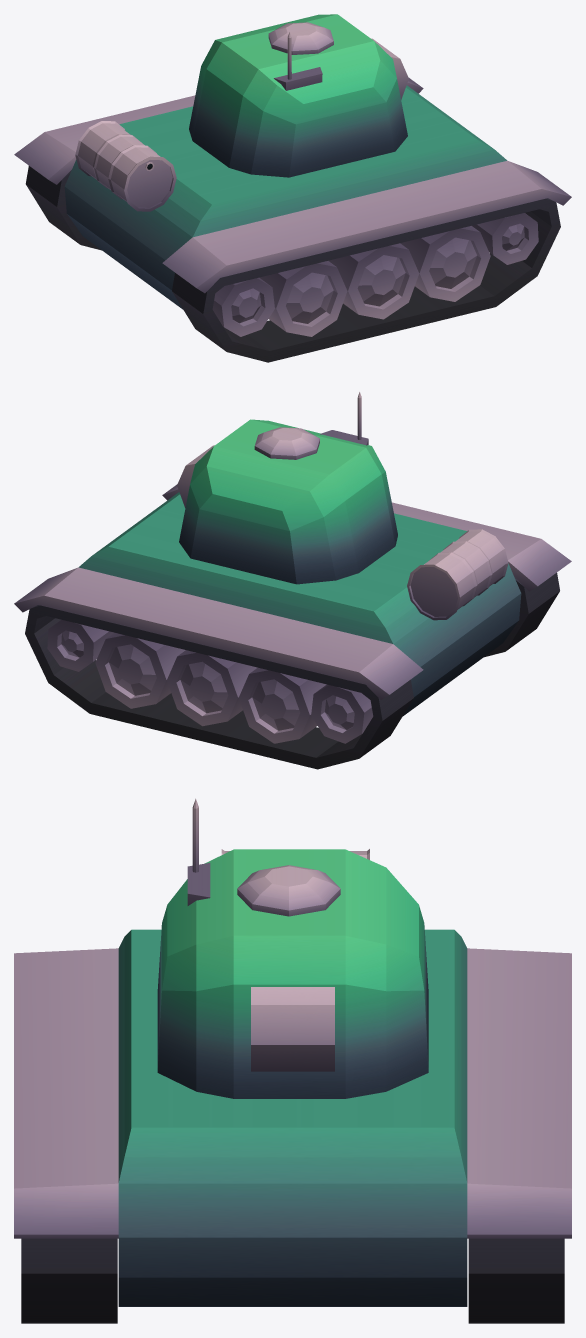
Rendered from Tank_Player.fbx.
3 renders of one model, top to bottom at view 1: azimuth 30°, elevation 25°; view 2: azimuth 150°, elevation 25°; view 3: azimuth 270°, elevation 25°, orthographic. The views are drawn at different scales.
Parts seen in each view (by area): view 1: Body, Head; view 2: Body, Head; view 3: Body, Head.
Part boxes in pixels (left/top/right/bottom): Body: left=14, top=78, right=571, bottom=362; Head: left=189, top=14, right=408, bottom=177; Body: left=14, top=484, right=571, bottom=769; Head: left=177, top=392, right=397, bottom=584; Body: left=14, top=849, right=571, bottom=1323; Head: left=157, top=798, right=428, bottom=1098.
Size of the model in its own units: 383 by 260 by 318.
